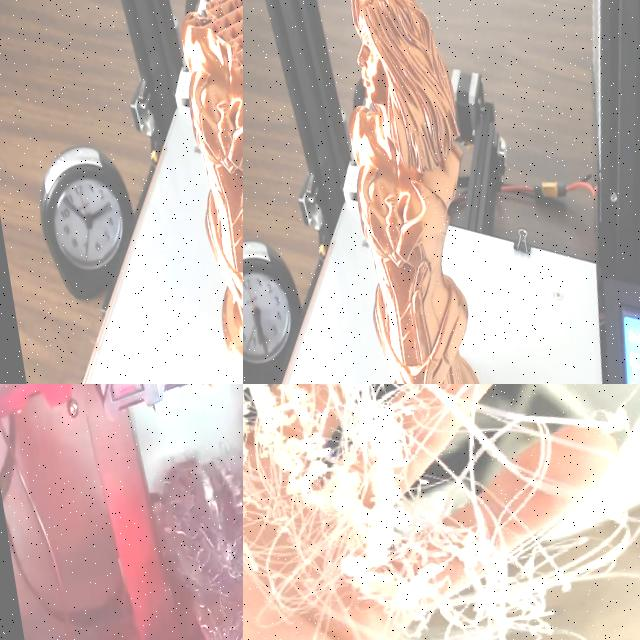spaghetti: (243, 384, 640, 640), (137, 384, 243, 640)
